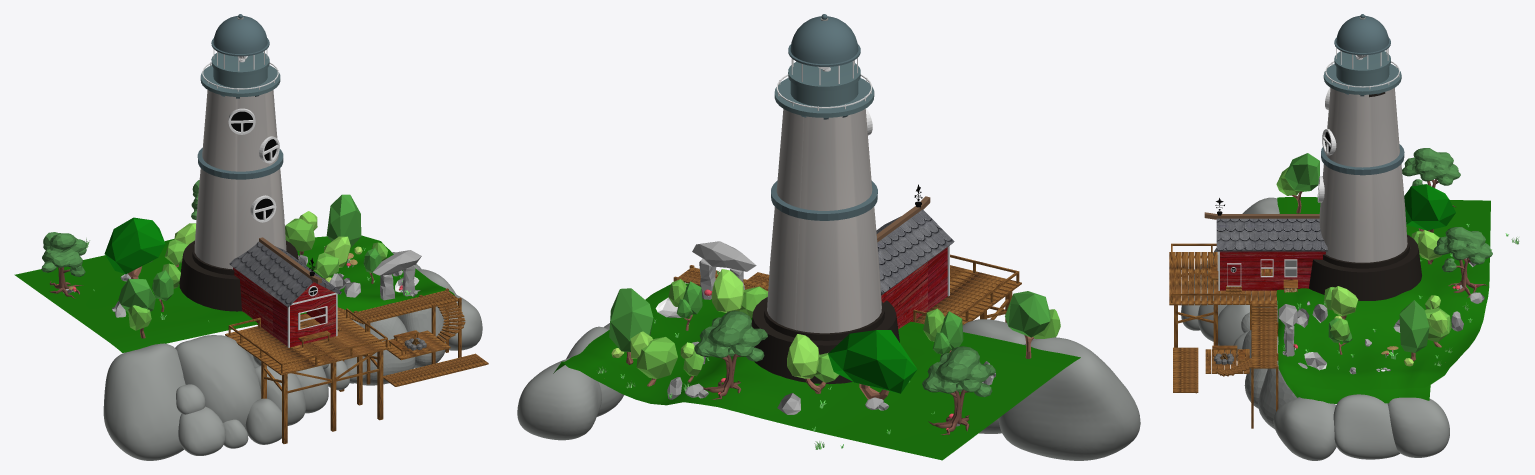
File: p01_faro3.fbx
3 renders of one model, left to right at view 1: azimuth 30°, elevation 25°; view 2: azimuth 150°, elevation 25°; view 3: azimuth 270°, elevation 25°, orthographic. The views are drawn at different scales.
Parts seen in each view (by area): view 1: Cylinder, Plane, Plane.001, Sphere.011, Sphere.009, Cube.002, Cube.003, imagetostl_mesh13, Sphere.012, Cylinder.003, imagetostl_mesh8, Sphere.007 (+18 smaller); view 2: Cylinder, Plane, Sphere.011, Sphere.003, imagetostl_mesh8, imagetostl_mesh13, Plane.001, Cube.003, Cylinder.003, Cube.002, imagetostl_mesh20, imagetostl_mesh0 (+11 smaller); view 3: Cylinder, Plane, Plane.001, Cube.003, Sphere.002, Cube.002, imagetostl_mesh8, Sphere.001, Sphere.003, imagetostl_mesh13, Cylinder.003, imagetostl_mesh0 (+17 smaller).
Part boxes in pixels (left/top/right/bottom): Cylinder: left=179, top=52, right=298, bottom=311; Plane: left=14, top=235, right=454, bottom=352; Plane.001: left=225, top=288, right=488, bottom=443; Sphere.011: left=103, top=343, right=185, bottom=460; Sphere.009: left=175, top=335, right=261, bottom=429; Cube.002: left=233, top=267, right=335, bottom=347; Cube.003: left=229, top=241, right=341, bottom=307; imagetostl_mesh13: left=104, top=217, right=165, bottom=274; Sphere.012: left=178, top=406, right=225, bottom=455; Cylinder.003: left=211, top=16, right=269, bottom=56; imagetostl_mesh8: left=41, top=180, right=199, bottom=276; Sphere.007: left=356, top=316, right=415, bottom=385; Cylinder: left=751, top=61, right=899, bottom=384; Plane: left=553, top=283, right=1080, bottom=460; Sphere.011: left=998, top=337, right=1140, bottom=460; Sphere.003: left=517, top=357, right=601, bottom=440; imagetostl_mesh8: left=694, top=310, right=995, bottom=397; imagetostl_mesh13: left=828, top=330, right=917, bottom=393; Plane.001: left=673, top=265, right=1021, bottom=325; Cube.003: left=876, top=209, right=954, bottom=295; Cylinder.003: left=788, top=16, right=860, bottom=66; Cube.002: left=881, top=247, right=947, bottom=329; imagetostl_mesh20: left=711, top=269, right=819, bottom=378; imagetostl_mesh0: left=609, top=288, right=653, bottom=351; Cylinder: left=1309, top=51, right=1421, bottom=300; Plane: left=1276, top=197, right=1490, bottom=403; Plane.001: left=1169, top=252, right=1278, bottom=428; Cube.003: left=1216, top=218, right=1327, bottom=251; Sphere.002: left=1333, top=394, right=1399, bottom=459; Cube.002: left=1220, top=251, right=1325, bottom=290; imagetostl_mesh8: left=1402, top=148, right=1492, bottom=272; Sphere.001: left=1273, top=397, right=1336, bottom=460; Sphere.003: left=1387, top=397, right=1449, bottom=457; imagetostl_mesh13: left=1404, top=184, right=1455, bottom=230; Cylinder.003: left=1334, top=15, right=1390, bottom=55; imagetostl_mesh0: left=1399, top=300, right=1429, bottom=352.
Bounding box in the file's own units: 1948 × 1665 × 1508.
102 materials, 9 textured.
